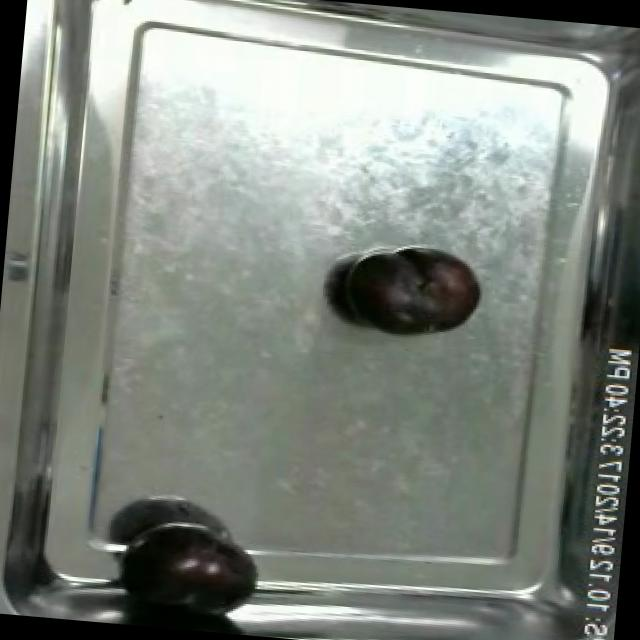Fruit: (108, 513, 270, 630), (330, 240, 490, 346)
